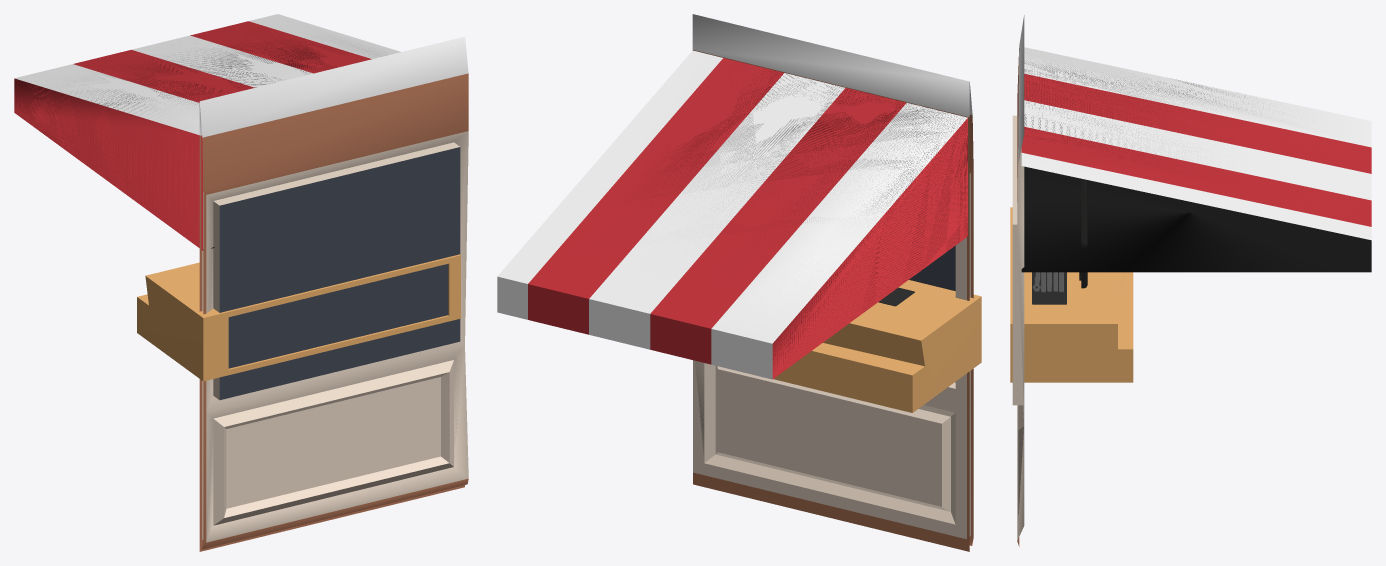
File: wallTile1.fbx
3 renders of one model, left to right at view 1: azimuth 30°, elevation 25°; view 2: azimuth 150°, elevation 25°; view 3: azimuth 270°, elevation 25°, orthographic. The views are drawn at different scales.
Visible parts, largest first — view 1: Restaurent main Building, Restaurent.003; view 2: Restaurent main Building, Restaurent.003; view 3: Restaurent main Building, Restaurent.003.
Part boxes in pixels (x1,y1,x2,y2): Restaurent main Building: (14, 14, 468, 551); Restaurent.003: (137, 254, 460, 381); Restaurent main Building: (497, 14, 973, 551); Restaurent.003: (773, 280, 981, 412); Restaurent main Building: (1012, 15, 1371, 546); Restaurent.003: (1010, 178, 1133, 382).
Size of the model in its own units: 492 by 787 by 617.
